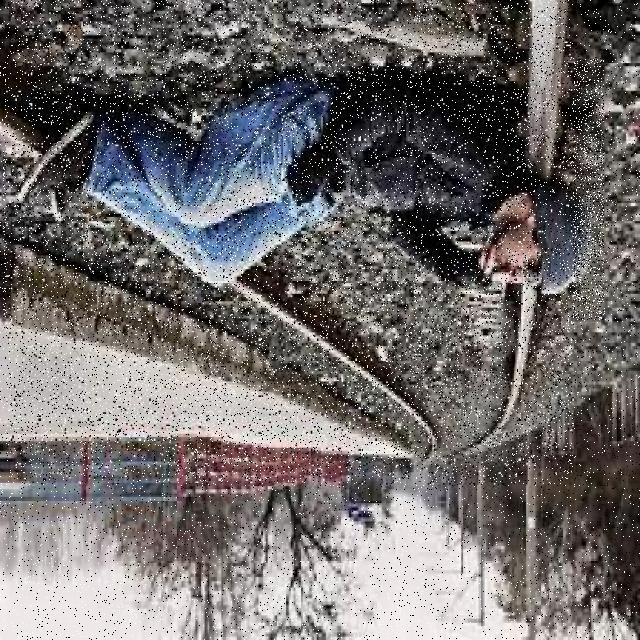danger: (3, 59, 604, 320)
rail: (6, 0, 573, 484)
